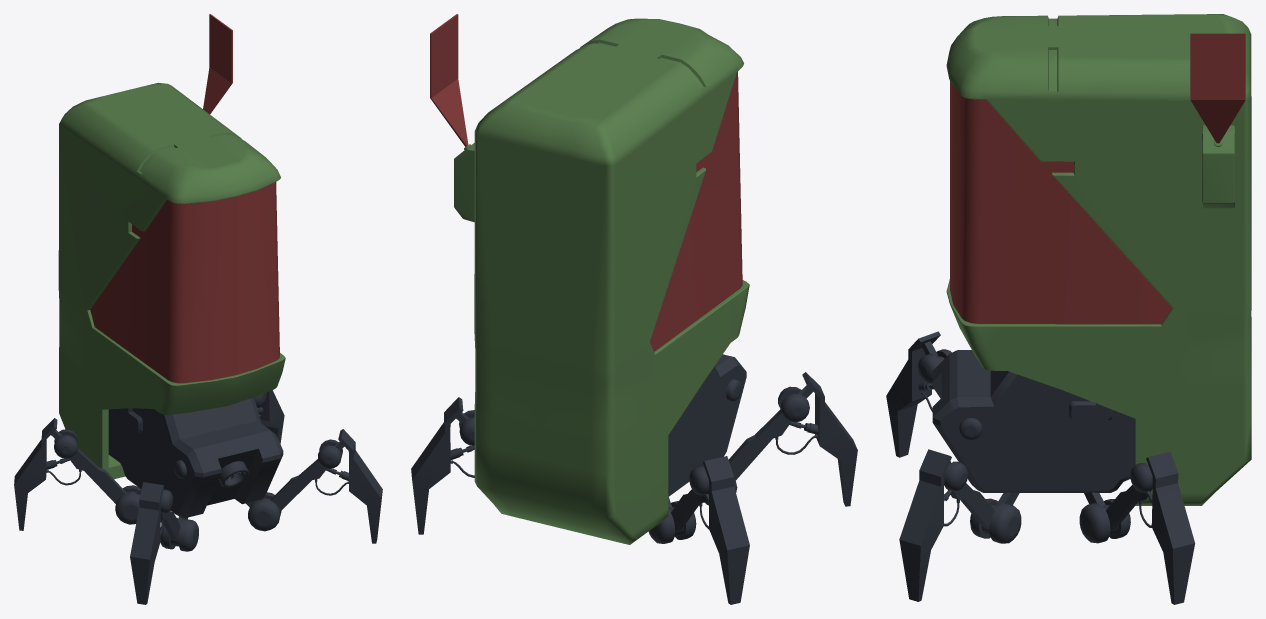
File: RenderMachine.fbx
The picture shows the model from 3 angles, left to right: view 1: azimuth 30°, elevation 25°; view 2: azimuth 150°, elevation 25°; view 3: azimuth 270°, elevation 25°; orthographic projection. The views are drawn at different scales.
Visible parts, largest first — view 1: Body.001, glass+visor, engine; view 2: Body.001, engine, glass+visor; view 3: Body.001, engine, glass+visor.
Boxes of the visible parts, x1,y1,x2,y2 form: Body.001: (58,82,285,479); glass+visor: (90,14,279,383); engine: (14,390,382,604); Body.001: (454,18,749,544); engine: (411,354,857,604); glass+visor: (430,14,742,351); Body.001: (946,14,1251,505); engine: (886,331,1195,604); glass+visor: (950,33,1245,324).
Size of what is drawn, in the model's own units: 140 by 213 by 129.
